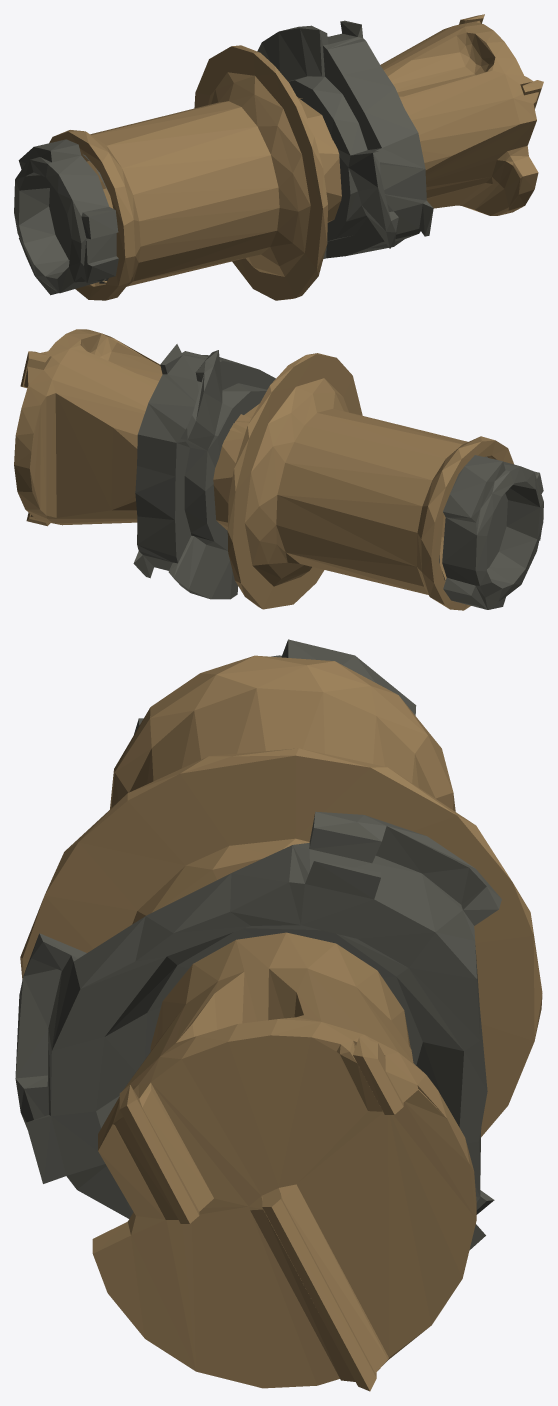
The model's file is corer_feed.obj.
3 views of the same model, one above another, from view 1: azimuth 30°, elevation 25°; view 2: azimuth 150°, elevation 25°; view 3: azimuth 270°, elevation 25° (orthographic). The views are drawn at different scales.
Bounding box in the file's own units: 0.1307 × 0.0654 × 0.0647.
1 material, 1 textured.
